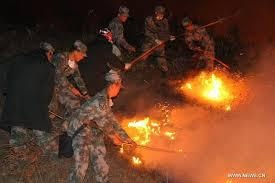fire: (121, 114, 176, 147), (180, 71, 232, 102)
